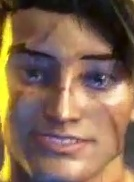kevin: (5, 7, 133, 181)
